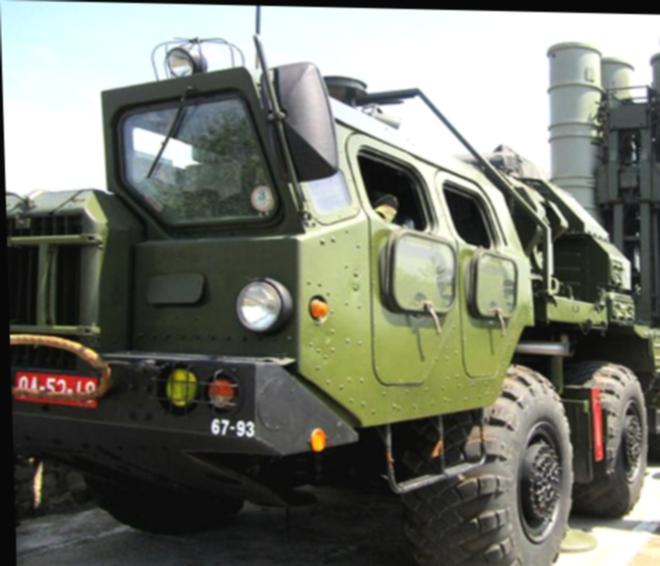License_Plate: (16, 369, 102, 413)
